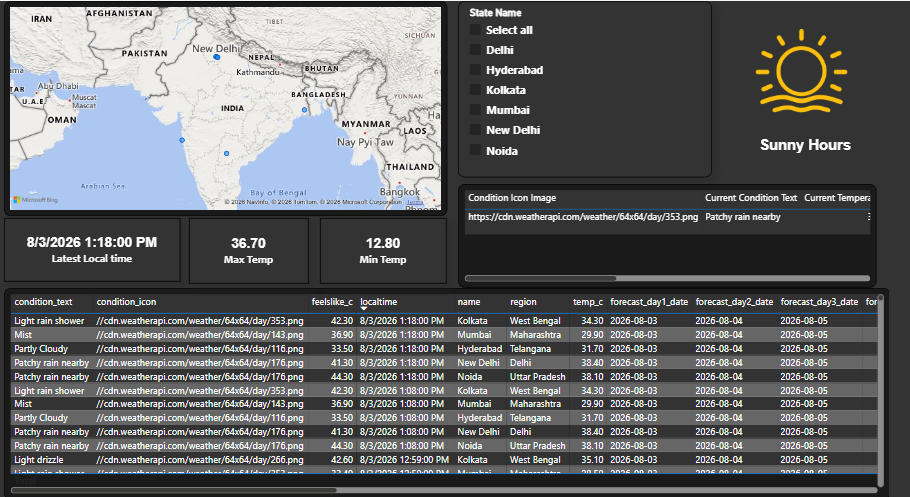

Layout of this report page (visuals, bound fields, positions):
{"tool":"powerbi","page":{"name":"Page 2","canvas":[1280,720],"ordinal":1},"visuals":[{"type":"tableEx","fields":{"Values":["WeatherTable.condition_text","WeatherTable.condition_icon","WeatherTable.feelslike_c","WeatherTable.localtime","WeatherTable.name","WeatherTable.region","WeatherTable.temp_c","WeatherTable.forecast_day1_date","WeatherTable.forecast_day2_date","WeatherTable.forecast_day3_date","WeatherTable.forecast_day1_maxtemp_c","WeatherTable.forecast_day1_mintemp_c"]},"box":[0,414.5,1280.7,306],"z":0},{"type":"slicer","fields":{"Values":["WeatherTable.name"]},"box":[656.6,0,367.2,254.9],"z":1000},{"type":"map","fields":{"Category":["WeatherTable.name"]},"box":[0,0,640.8,311],"z":2000},{"type":"cardVisual","fields":{"Data":["measure table.Latest Local time"]},"box":[0,313.9,254.9,92.2],"z":3000},{"type":"tableEx","fields":{"Values":["measure table.Condition Icon Image","measure table.Current Condition Text","measure table.Current Temperature","measure table.DayNight","measure table.DayNight Image","measure table.Last Updated Date","measure table.Latest Local time"]},"box":[656.6,265,604.8,149.8],"z":4000},{"type":"cardVisual","fields":{"Data":["Max(ForecastTable.MaxTemp)"]},"box":[267.8,313.9,172.8,95],"z":5000},{"type":"cardVisual","fields":{"Data":["Min(ForecastTable.MinTemp)"]},"box":[456.5,313.9,182.9,95],"z":6000},{"type":"cardVisual","fields":{"Data":["measure table.DayNight"]},"box":[1036.8,155.5,243.4,103.7],"z":7000},{"type":"cardVisual","fields":{"Data":["Max(WeatherTable.is_day)"]},"box":[999.4,0,280.8,217.4],"z":8000}]}

Visuals, with their boxes in screenshot pixels (x1, y1, x2, y2), scaled from the page's 1280x720 canvas onto the 910x497 screenshot:
tableEx - WeatherTable.condition_text x WeatherTable.condition_icon: <box>0,286,909,496</box>
slicer - WeatherTable.name: <box>467,0,728,176</box>
map - WeatherTable.name: <box>0,0,456,215</box>
cardVisual - measure table.Latest Local time: <box>0,217,181,280</box>
tableEx - measure table.Condition Icon Image x measure table.Current Condition Text: <box>467,183,897,286</box>
cardVisual - Max(ForecastTable.MaxTemp): <box>190,217,313,282</box>
cardVisual - Min(ForecastTable.MinTemp): <box>325,217,455,282</box>
cardVisual - measure table.DayNight: <box>737,107,909,179</box>
cardVisual - Max(WeatherTable.is_day): <box>711,0,909,150</box>
